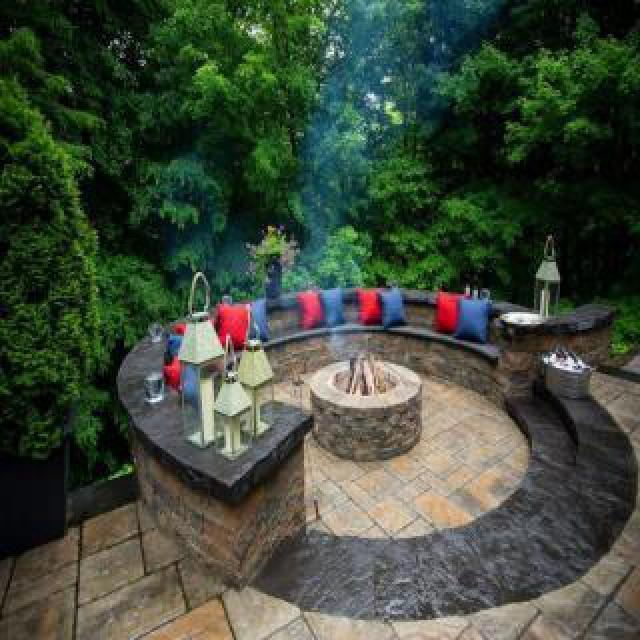Smoke: (318, 262, 350, 384)
